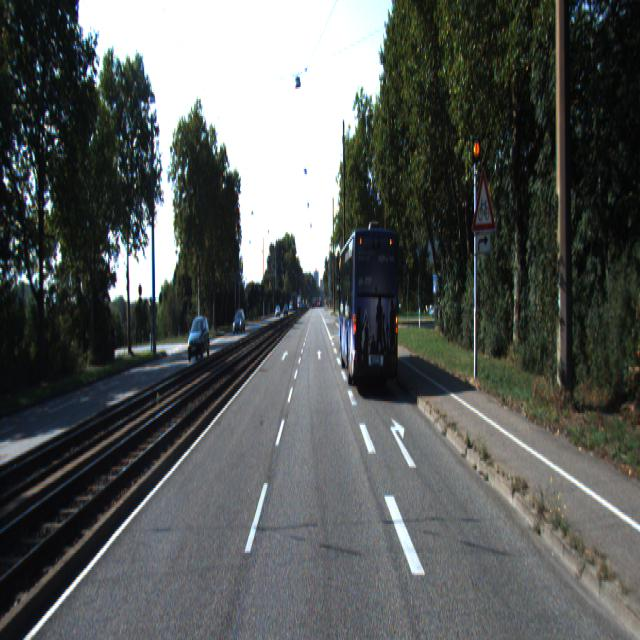Car: (338, 218, 402, 392), (186, 317, 211, 363)
